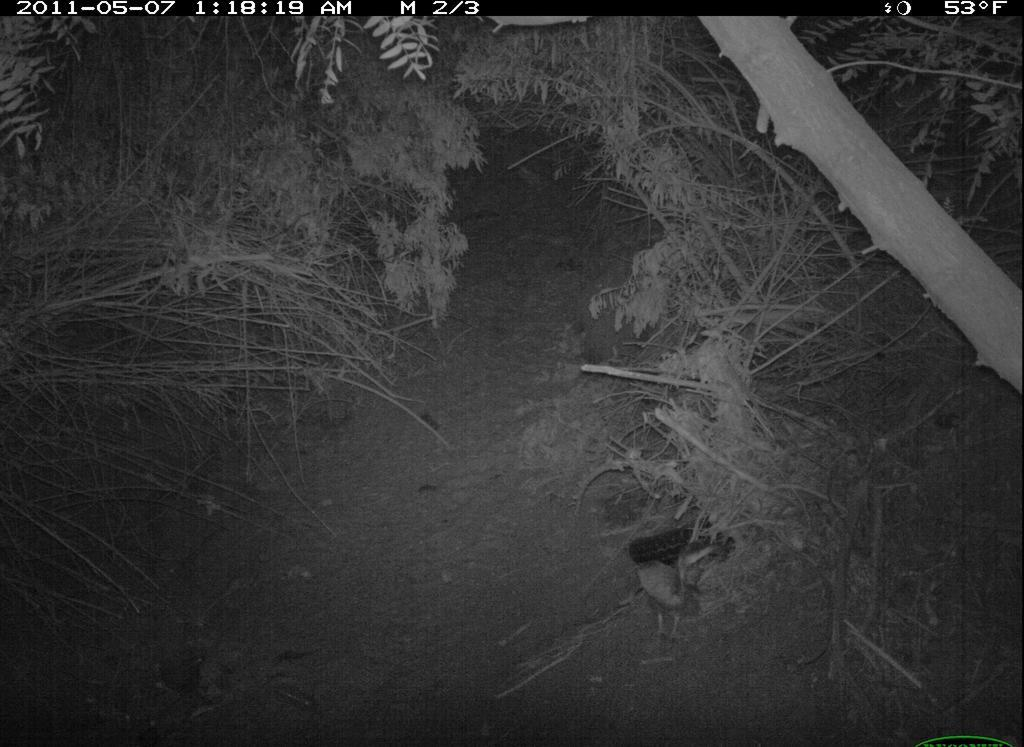bird: (624, 548, 719, 637)
